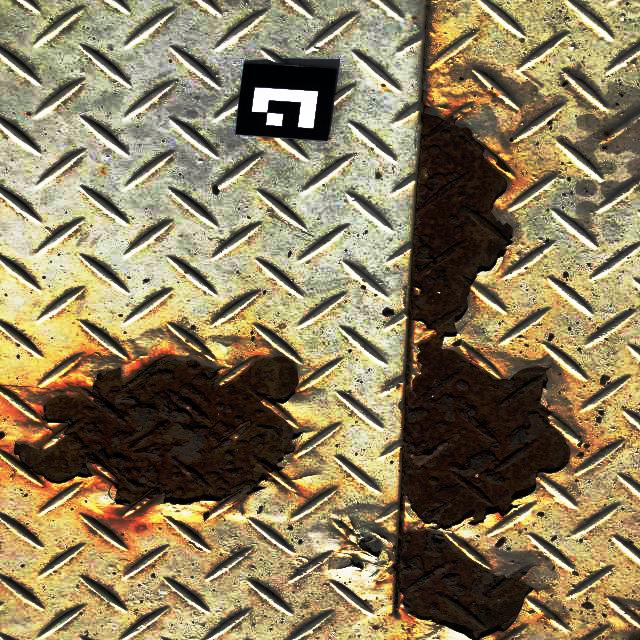Corrosion: (401, 109, 570, 531), (15, 353, 299, 516), (394, 527, 535, 640), (602, 130, 610, 138)
